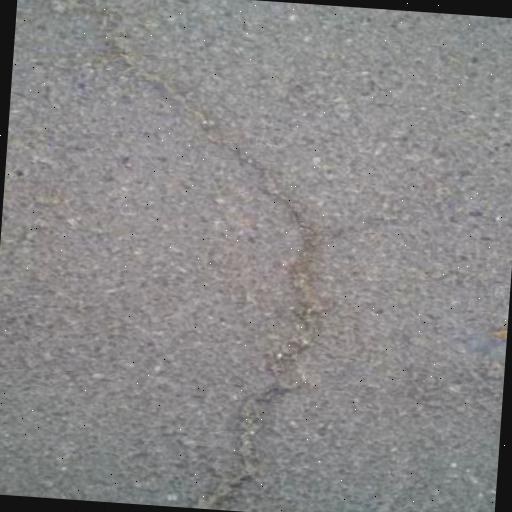spalling: (38, 0, 344, 509)
